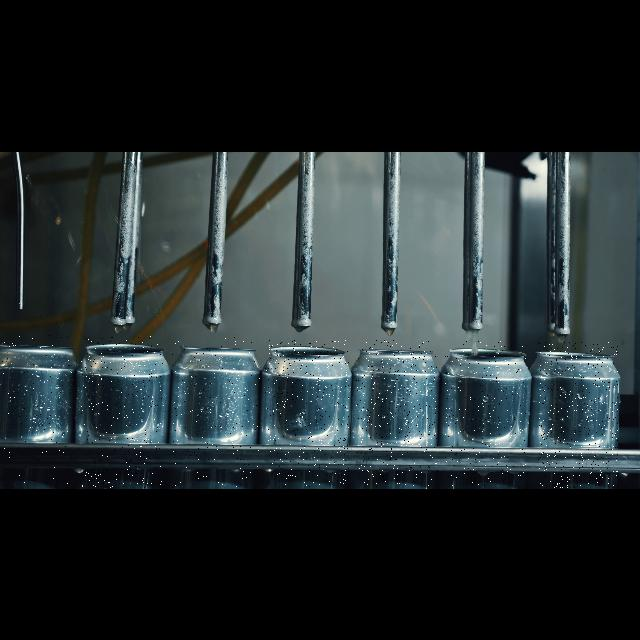empty: (172, 336, 260, 488), (81, 336, 163, 488), (265, 340, 349, 488), (356, 340, 438, 488), (445, 340, 527, 488), (538, 342, 618, 488), (2, 332, 72, 488)
